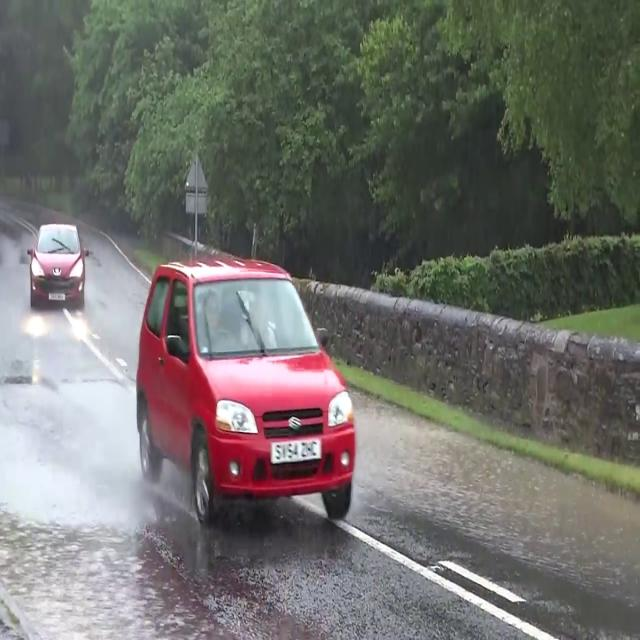license-plate-annotation: (270, 438, 320, 461)
